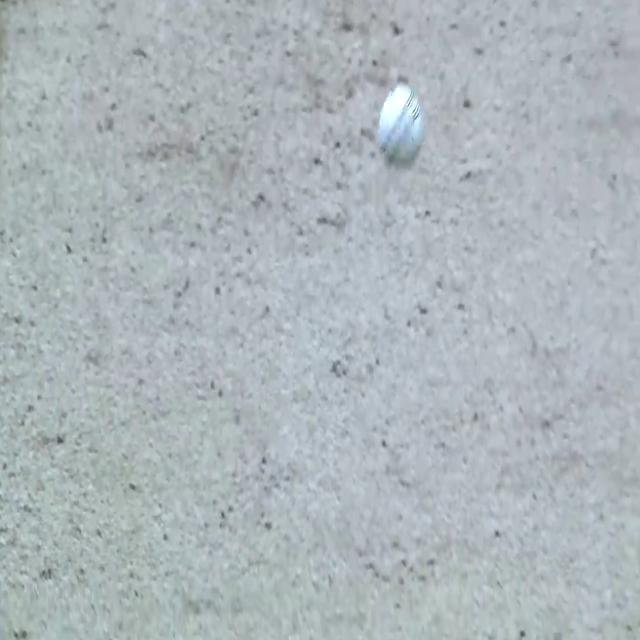ball: (372, 68, 428, 170)
